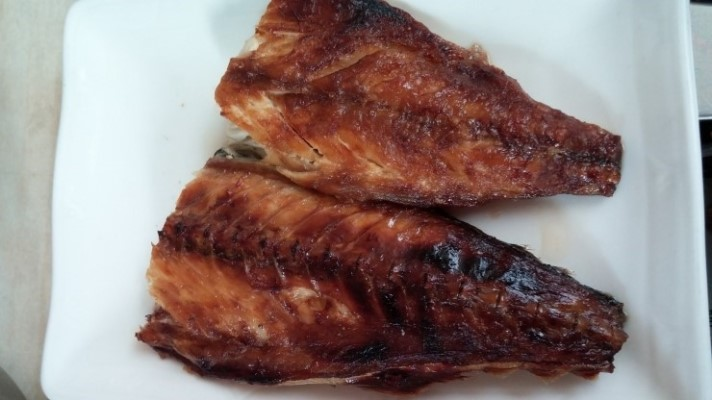godeung-eogu-i: (136, 143, 637, 395), (209, 0, 627, 211)
